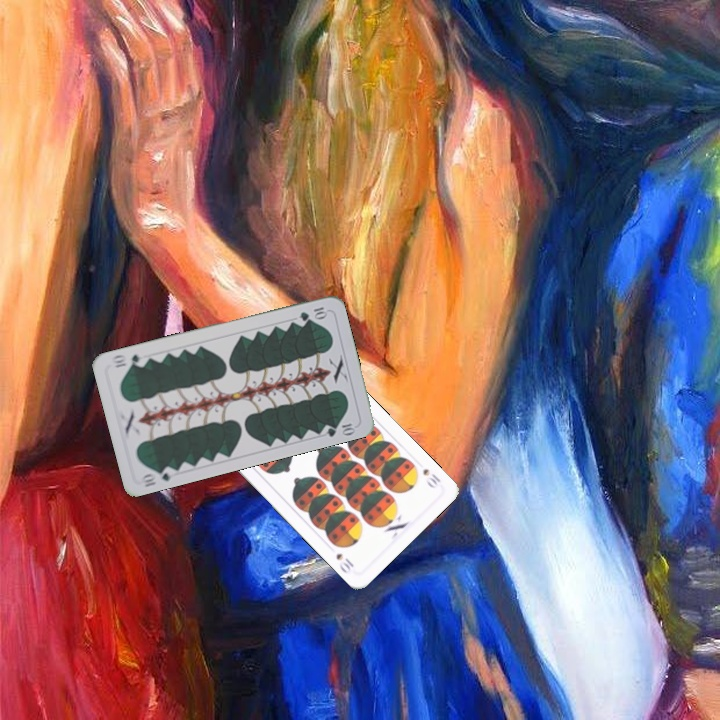G10: (137, 463, 177, 490), (295, 303, 330, 323)
S10: (419, 464, 444, 491)
